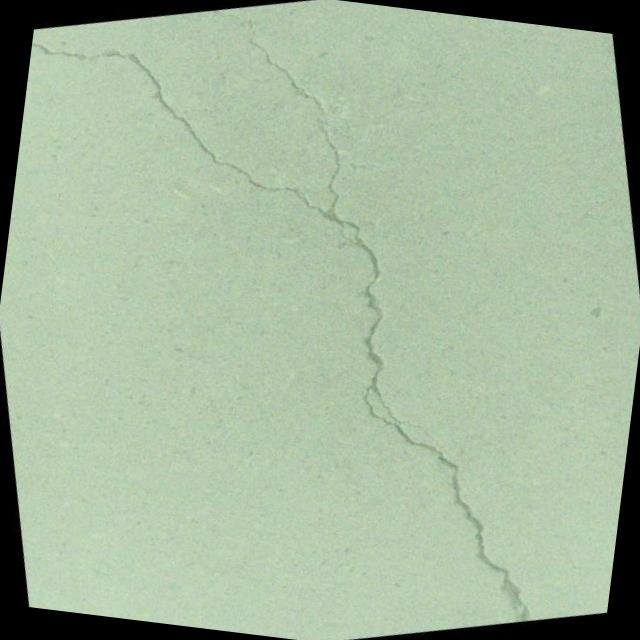crack: (0, 0, 603, 640), (193, 0, 438, 177), (237, 42, 260, 76)
